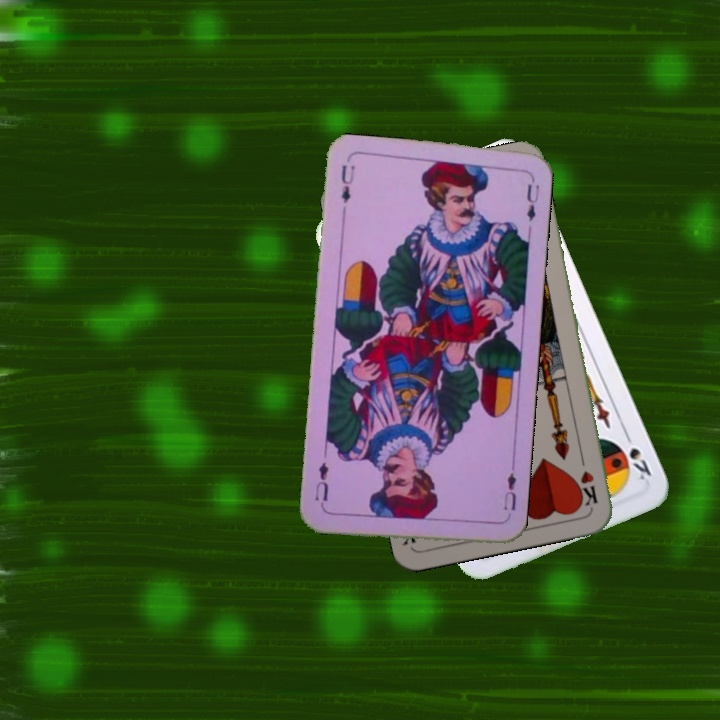EU: (499, 469, 519, 521), (337, 161, 358, 205)
HK: (575, 450, 600, 508)
SK: (620, 428, 654, 484)
